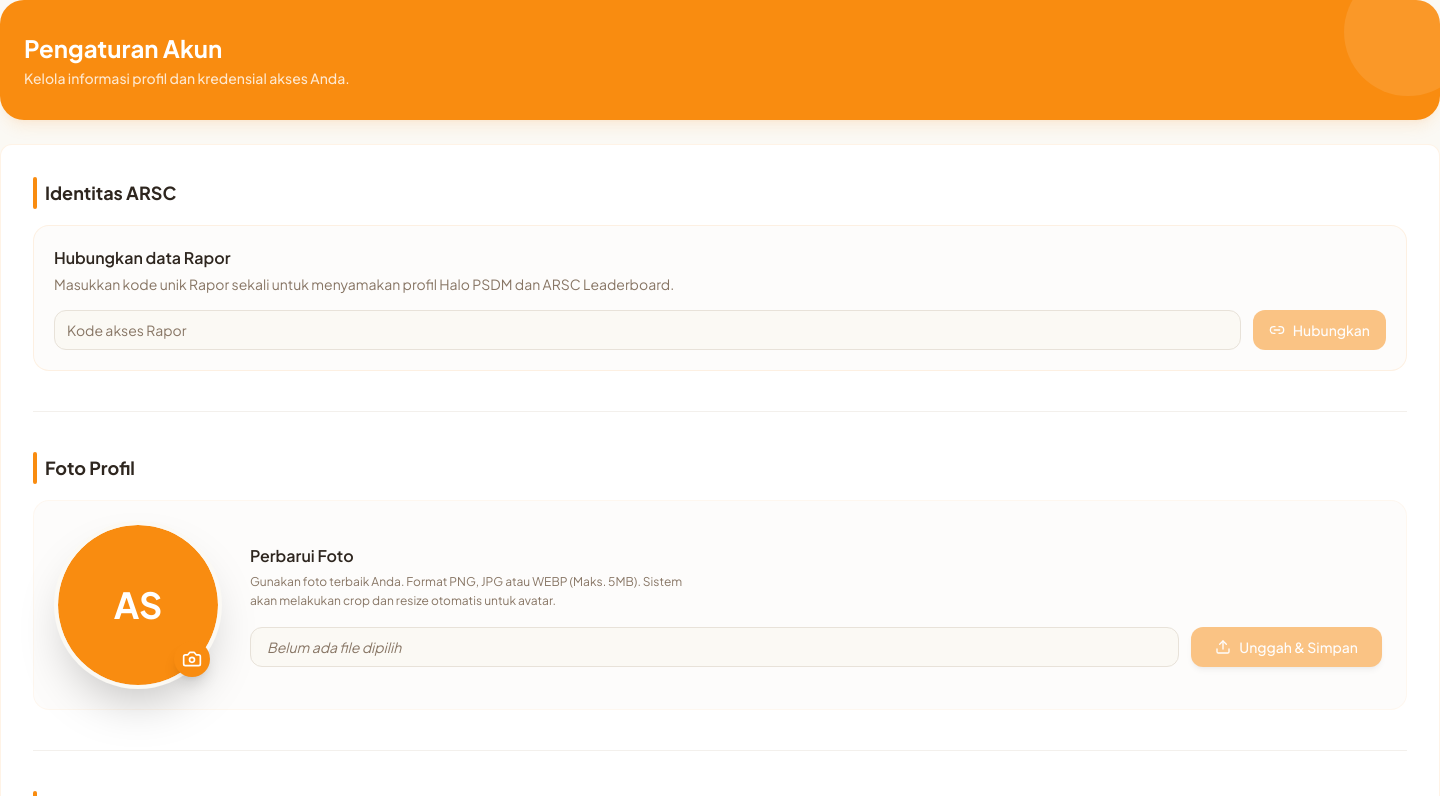
Test: app behavior › links the signed-in account to the shared Rapor identity
Type "RAPOR-TEST-CODE" into the password field with placeholder "Kode akses Rapor".
click(647, 330); type("RAPOR-TEST-CODE")  # box [54,310,1241,350]
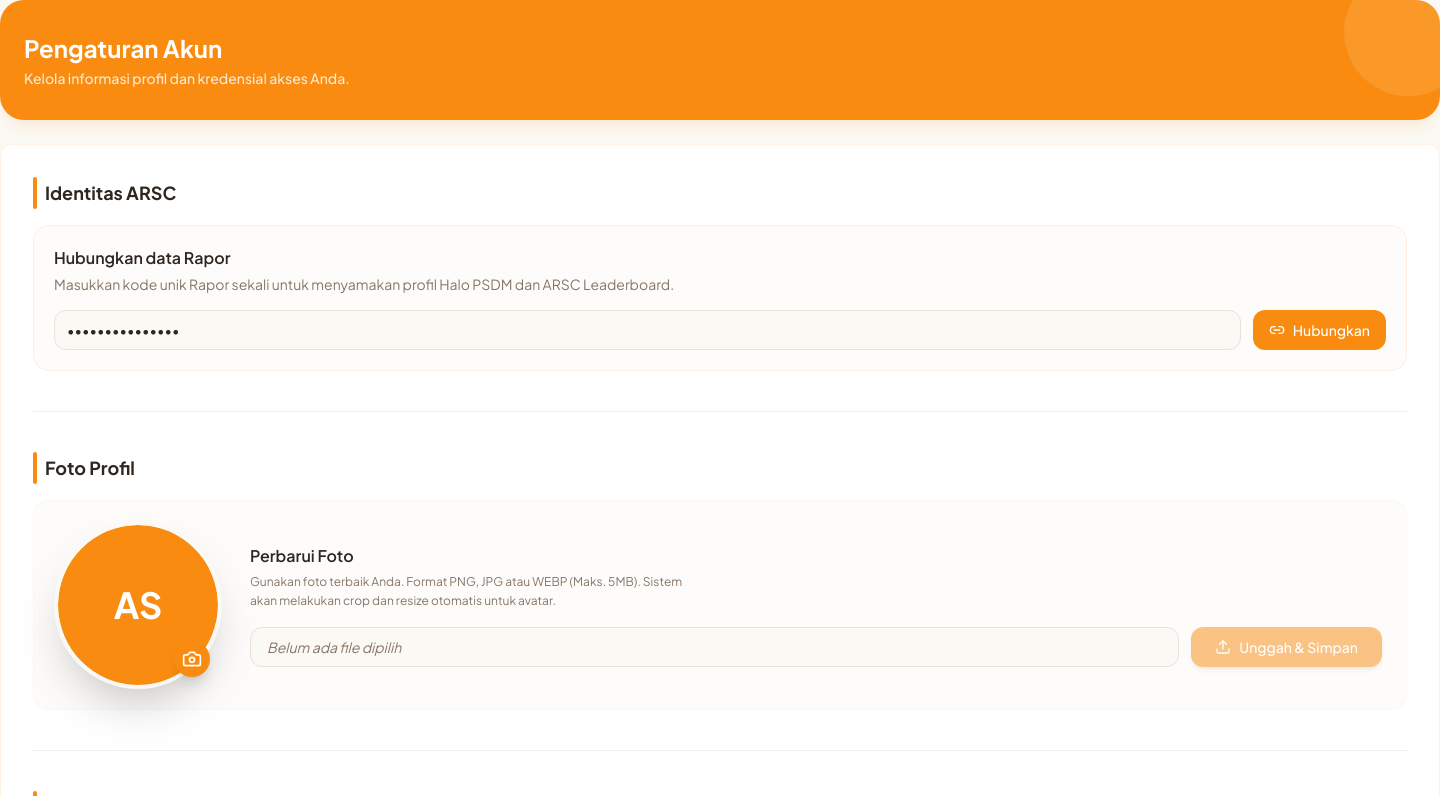
Click the button "Hubungkan".
click(1319, 330)  # box [1253,310,1386,350]
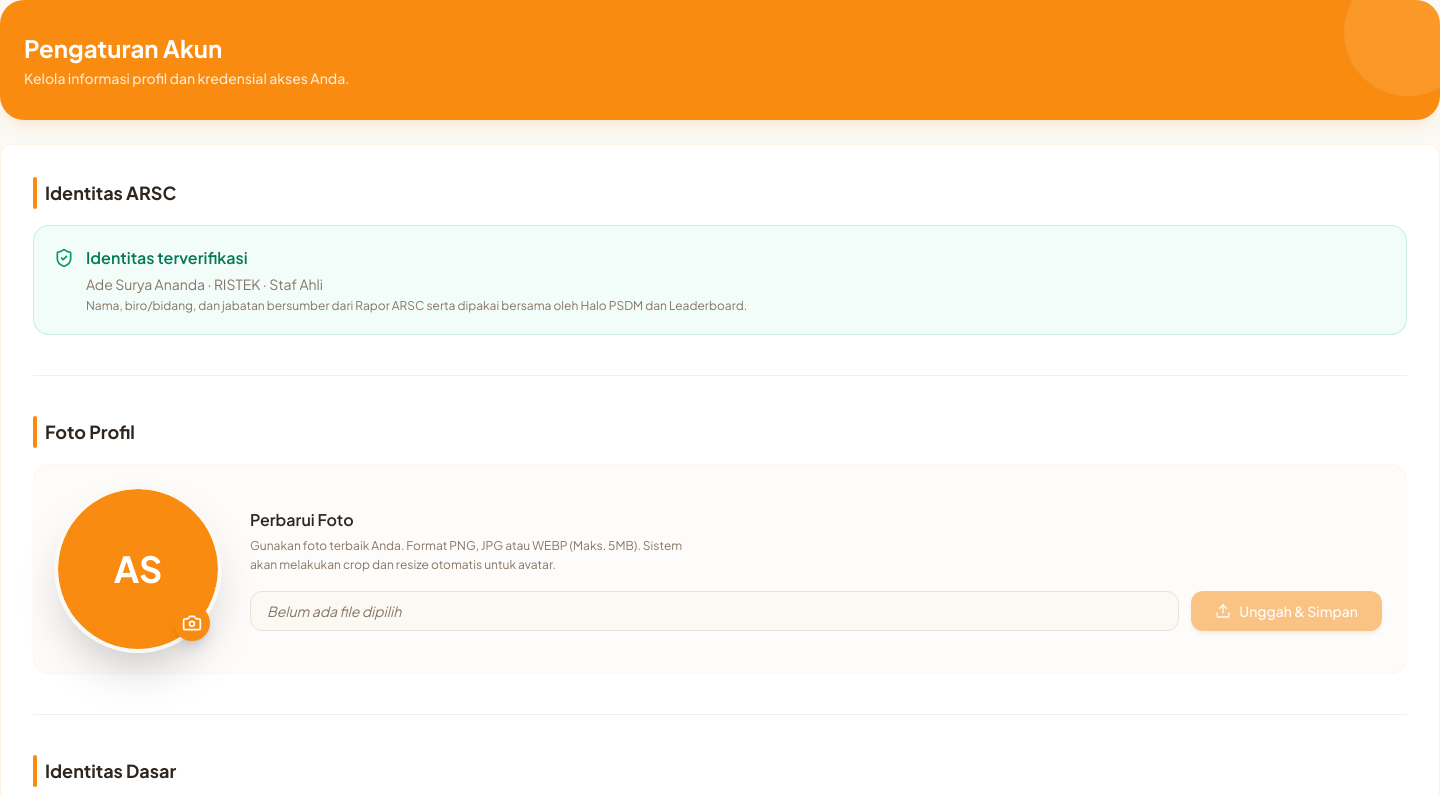
Now the text "Identitas terverifikasi" is shown, box [86,247,248,268]
Now the text "Ade Surya Ananda · RISTEK · Staf Ahli" is shown, box [86,275,323,293]
